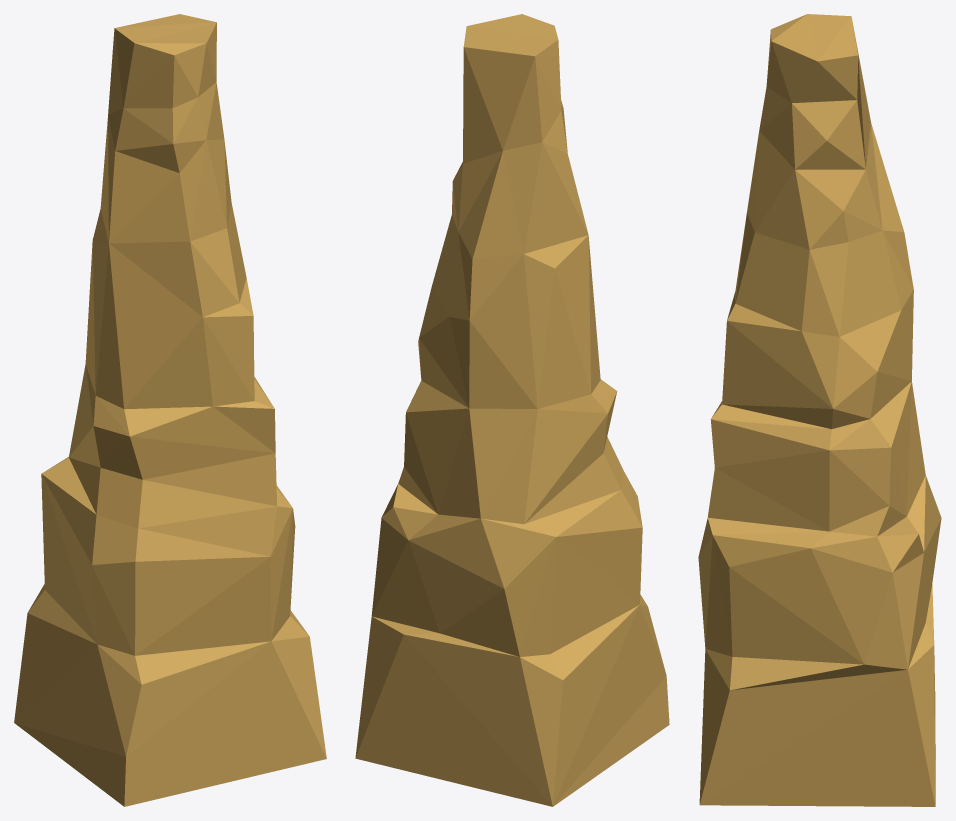
Rendered from Monument.fbx.
3 renders of one model, left to right at view 1: azimuth 30°, elevation 25°; view 2: azimuth 150°, elevation 25°; view 3: azimuth 270°, elevation 25°, orthographic. The views are drawn at different scales.
Parts seen in each view (by area): view 1: Monument; view 2: Monument; view 3: Monument.
Boxes of the visible parts, x1=… form: Monument: x1=14, y1=14, x2=326, y2=806; Monument: x1=355, y1=14, x2=669, y2=806; Monument: x1=698, y1=14, x2=941, y2=806.
Size of the model in its own units: 260 by 846 by 258.
